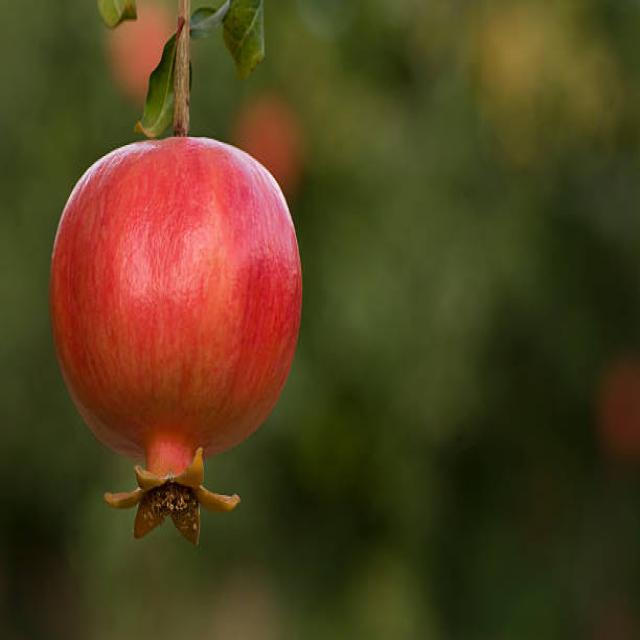Ripe: (44, 133, 305, 548)
